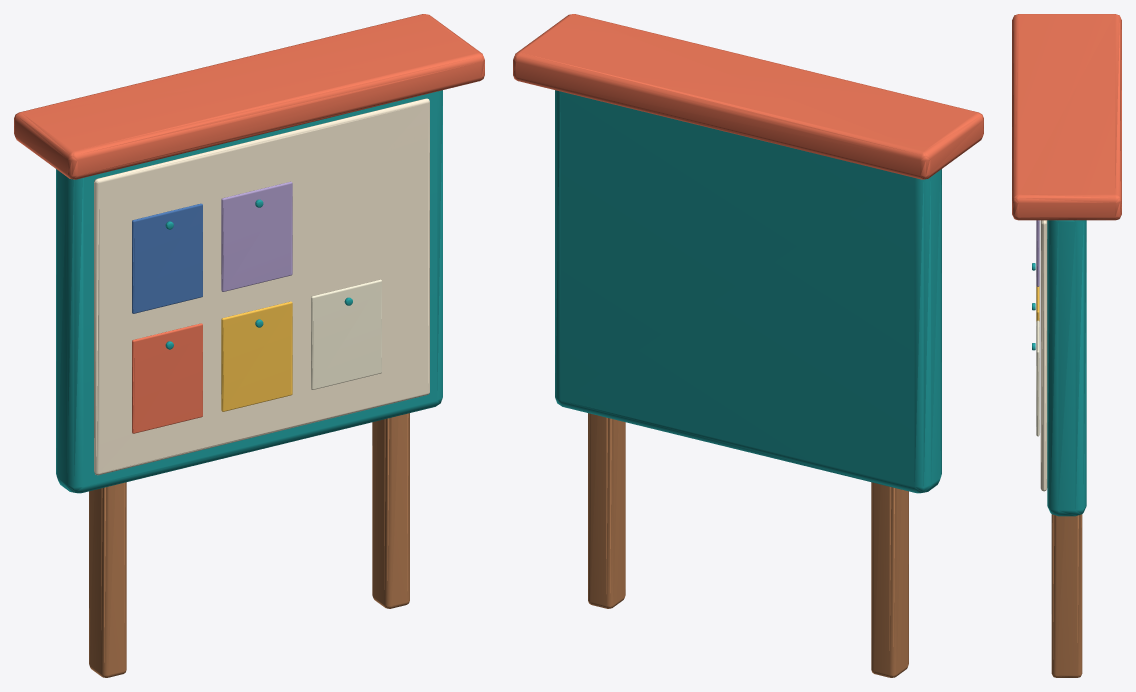
The model's file is NoticeBoard.fbx.
3 views of the same model, side by side, from view 1: azimuth 30°, elevation 25°; view 2: azimuth 150°, elevation 25°; view 3: azimuth 270°, elevation 25° (orthographic). The views are drawn at different scales.
Parts seen in each view (by area): view 1: GEO-Body; view 2: GEO-Body; view 3: GEO-Body.
Part boxes in pixels (left/top/right/bottom): GEO-Body: left=14, top=14, right=484, bottom=677; GEO-Body: left=513, top=14, right=983, bottom=677; GEO-Body: left=1012, top=14, right=1121, bottom=677.
Size of the model in its own units: 2 by 2.55 by 0.5.
